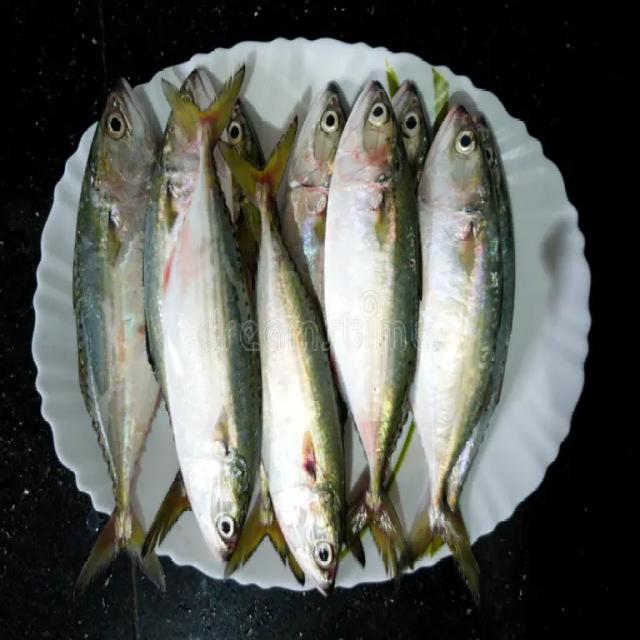Mackerel: (217, 127, 347, 603), (159, 64, 262, 559)
